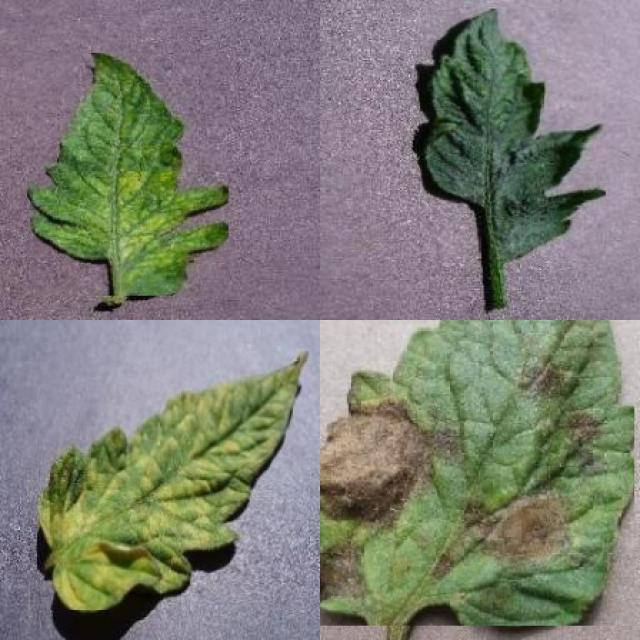Late Blight: (320, 320, 634, 626)
Leaf Mold: (37, 350, 309, 610)
Mosaic Virus: (27, 54, 229, 296), (418, 7, 606, 263)
